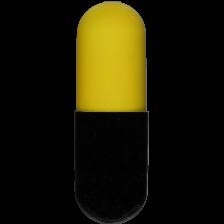10544-590: (0, 0, 224, 224)
